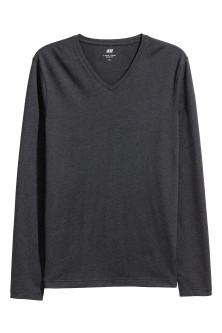teeshirt: (6, 33, 218, 305)
